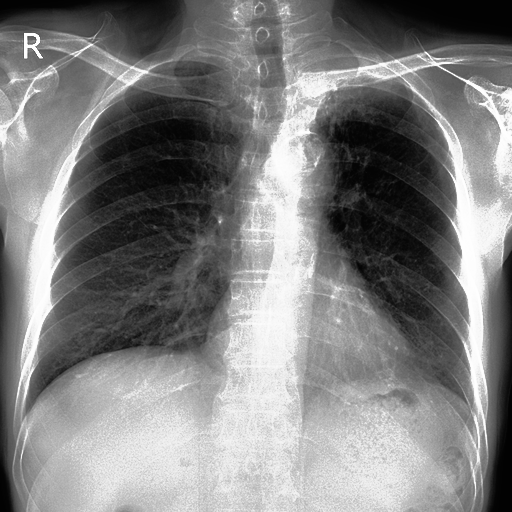Calcification: (281, 44, 422, 106)
Cardiomegaly: (274, 129, 338, 197)
Consolidation: (265, 129, 331, 196)
Pleural thickening: (280, 46, 410, 92)
